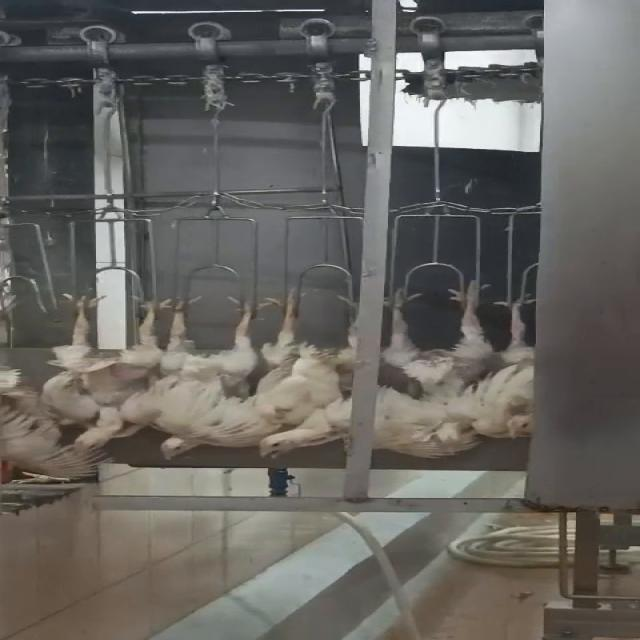chicken: (155, 292, 293, 464), (372, 278, 491, 460), (41, 286, 168, 456), (252, 288, 362, 462), (480, 283, 549, 446)
